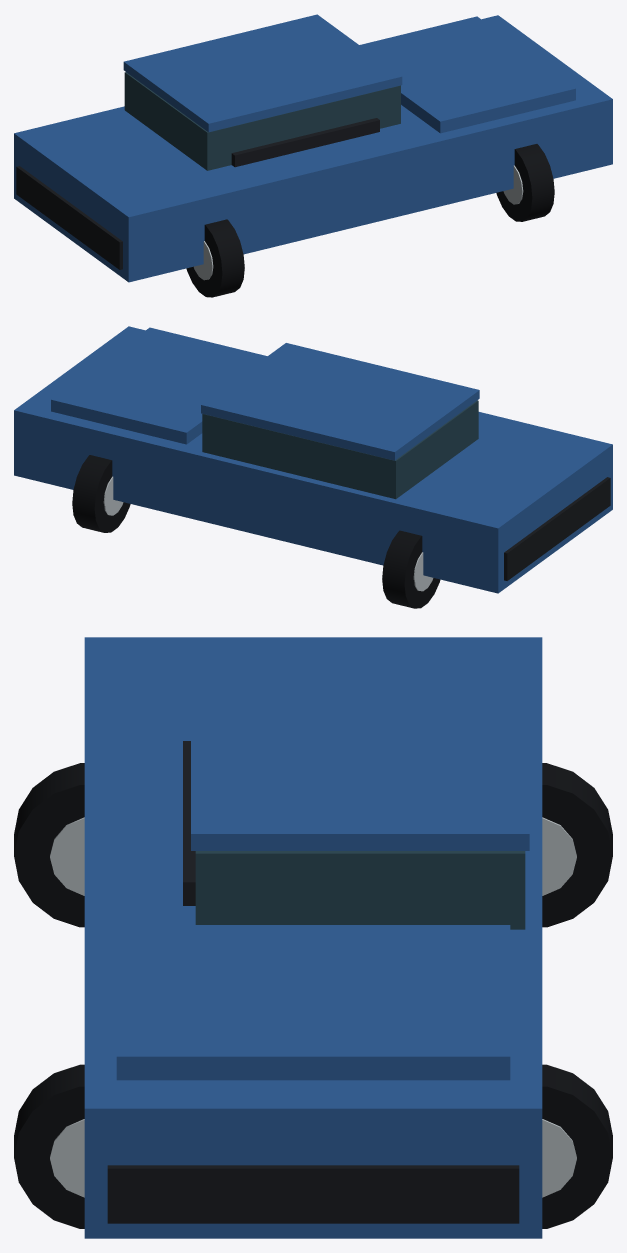
The model's file is ford_shelby_gt500.glb.
The picture shows the model from 3 angles, top to bottom: view 1: azimuth 30°, elevation 25°; view 2: azimuth 150°, elevation 25°; view 3: azimuth 270°, elevation 25°; orthographic projection. The views are drawn at different scales.
Visible parts, largest first — view 1: body, roof, hood, cabin, rear_bumper, rear_right_wheel, front_right_wheel, interior; view 2: body, roof, hood, cabin, rear_bumper, rear_left_wheel, front_left_wheel; view 3: body, roof, hood, cabin, front_bumper, front_left_wheel, front_right_wheel, rear_left_wheel, rear_right_wheel, interior.
Boxes of the visible parts, x1,y1,x2,y2 form: body: (14,15,612,282); roof: (123,14,402,132); hood: (359,16,575,133); cabin: (124,72,400,170); rear_bumper: (16,166,122,269); rear_right_wheel: (186,219,244,297); front_right_wheel: (496,144,554,221); interior: (231,118,379,167); body: (14,326,612,593); roof: (201,343,479,460); hood: (51,327,267,444); cabin: (202,400,478,499); rear_bumper: (504,477,610,580); rear_left_wheel: (382,530,440,608); front_left_wheel: (72,455,130,532); body: (84,637,542,1238); roof: (191,645,529,850); hood: (116,925,510,1080); cabin: (195,851,525,929); front_bumper: (107,1165,519,1223); front_left_wheel: (542,1064,612,1228); front_right_wheel: (14,1064,84,1228); rear_left_wheel: (542,763,612,927); rear_right_wheel: (14,763,84,927); interior: (183,741,195,905).
Size of the model in its own units: 4.81 by 1.36 by 2.55.
